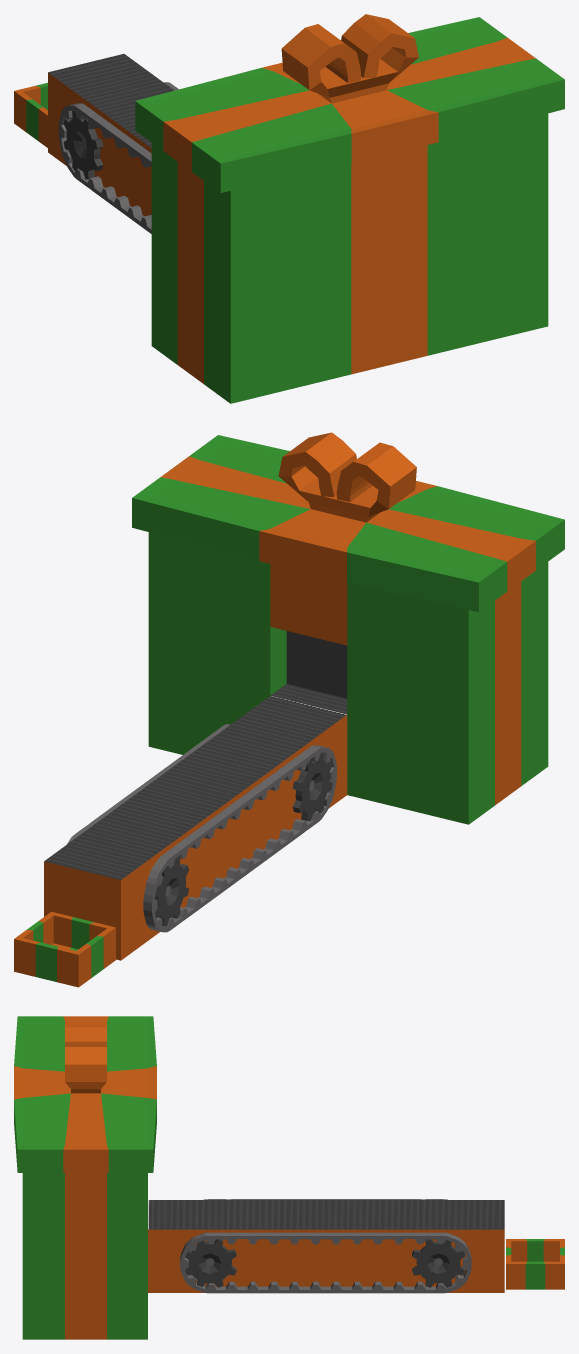
Rendered from CINTA TRANSPORTADORA 1.fbx.
3 views of the same model, one above another, from view 1: azimuth 30°, elevation 25°; view 2: azimuth 150°, elevation 25°; view 3: azimuth 270°, elevation 25° (orthographic). The views are drawn at different scales.
Parts seen in each view (by area): view 1: MAQUINA 5, CINTA 5; view 2: MAQUINA 5, CINTA 5; view 3: MAQUINA 5, CINTA 5.
Boxes of the visible parts, left/top/right/bottom form: MAQUINA 5: left=135, top=14, right=564, bottom=403; CINTA 5: left=14, top=54, right=178, bottom=233; MAQUINA 5: left=132, top=432, right=564, bottom=824; CINTA 5: left=14, top=696, right=347, bottom=987; MAQUINA 5: left=14, top=1016, right=156, bottom=1339; CINTA 5: left=148, top=1199, right=564, bottom=1293.
Size of the model in its own units: 2.83 by 2.41 by 4.94.
